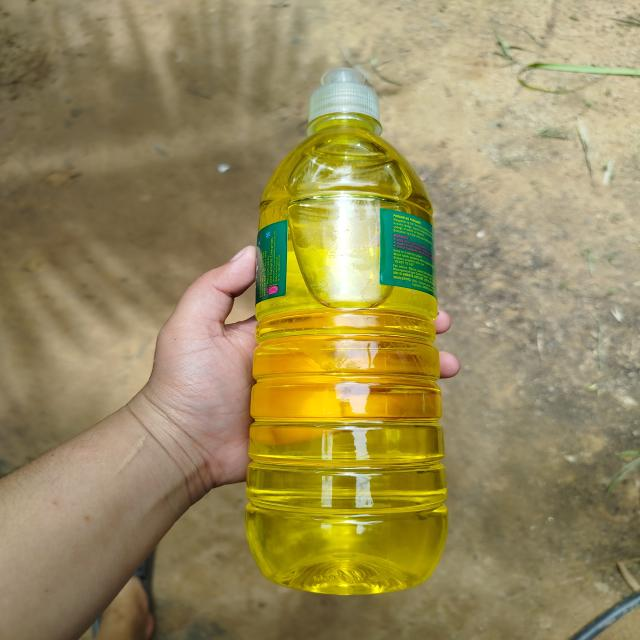plastic: (235, 50, 475, 603)
